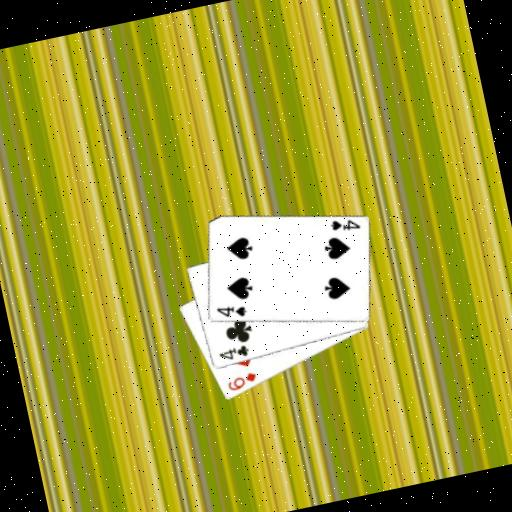4C: (214, 341, 251, 364)
4S: (212, 299, 249, 324), (325, 212, 362, 237)
6D: (223, 369, 260, 394)
